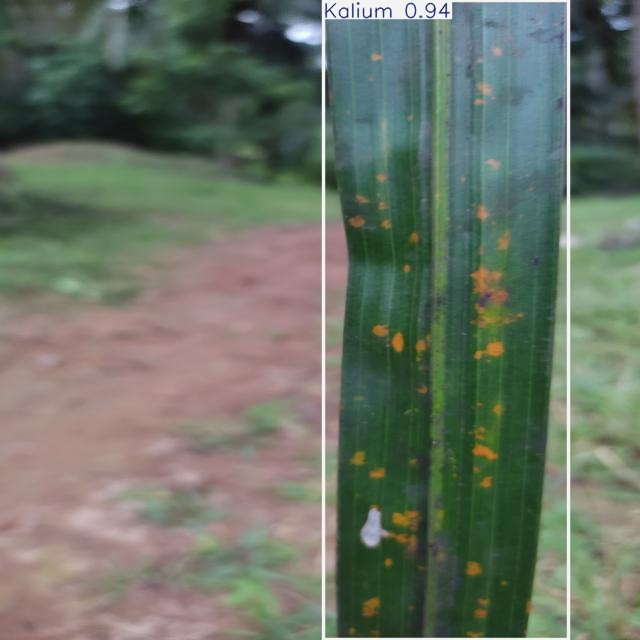Kalium: (323, 0, 569, 640)
